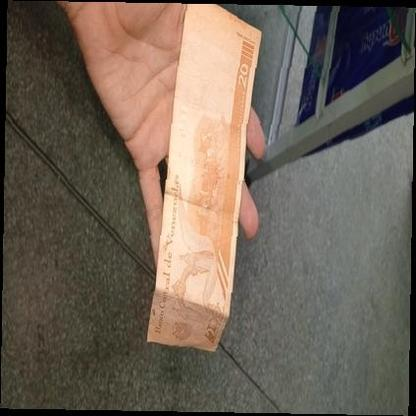twenty-back-vef: (146, 3, 262, 351)
